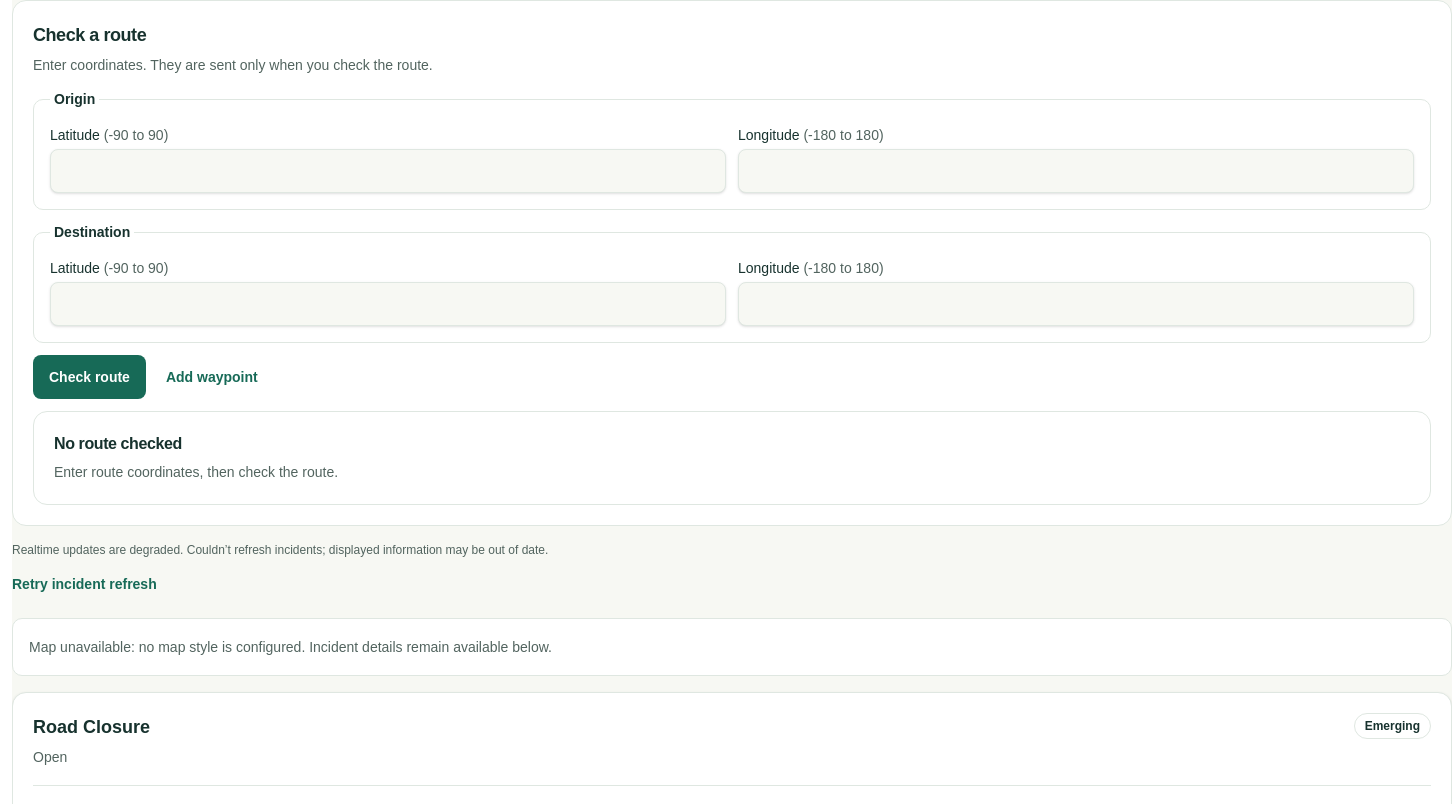
Test: IncidentMapExperience › keeps the map list visible and exposes explicit recovery after reconciliation failures
Expected: the text "displayed information may be out of date" is shown, [12, 543, 548, 557]
Expected: the heading "Road Closure" is shown, [33, 713, 150, 741]
What coordinates should you click on to do the following:
click the button "Retry incident refresh"
I would click on:
 (84, 584)
Its box is [12, 562, 157, 606].
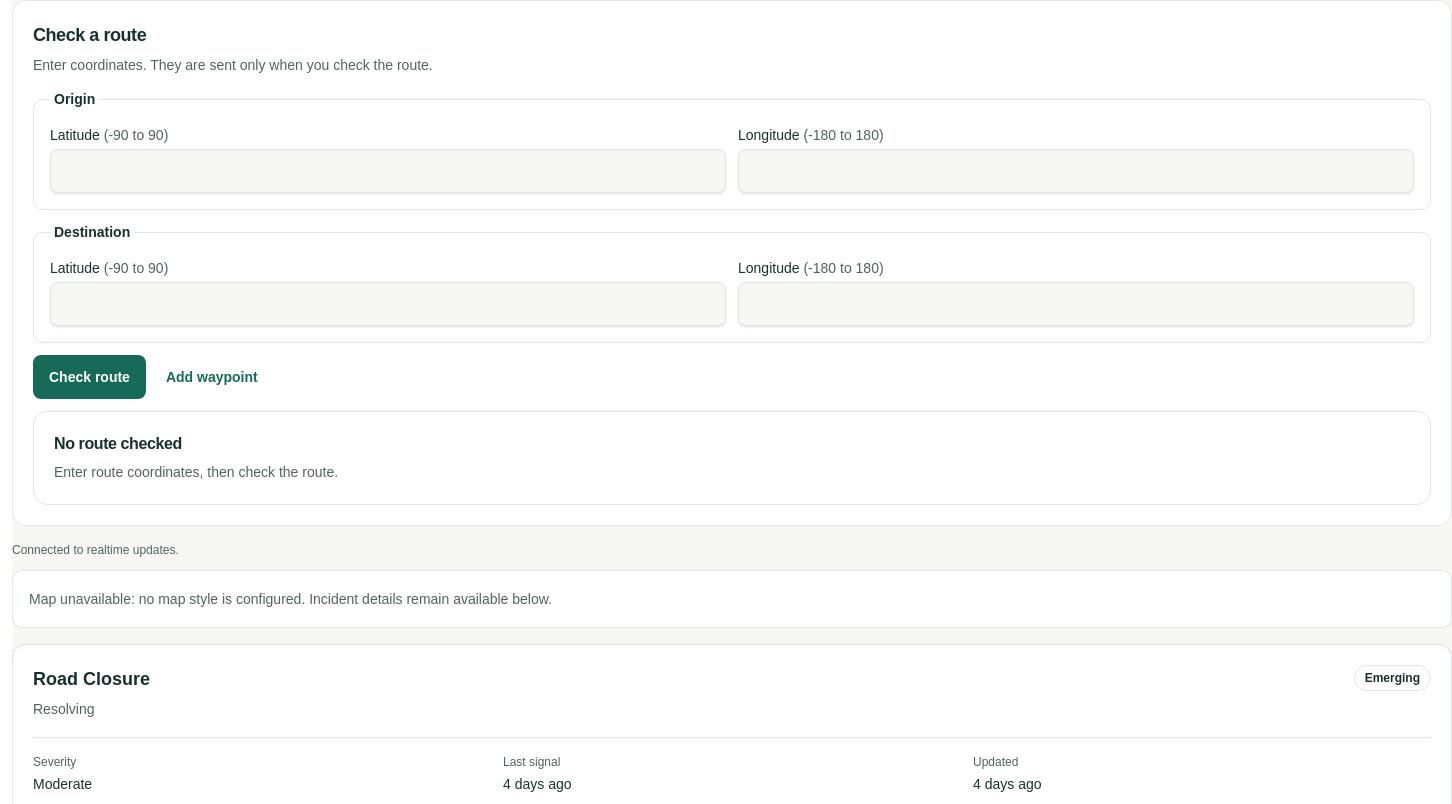
Result: the text "Resolving" is shown at [33, 701, 94, 717]
Result: the text "Connected to realtime updates." is shown at [12, 543, 179, 557]
